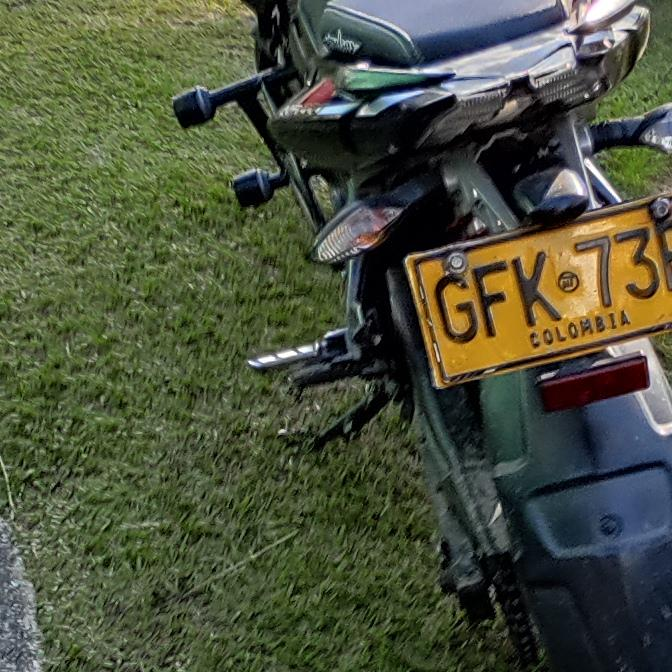plates: (405, 196, 672, 384)
